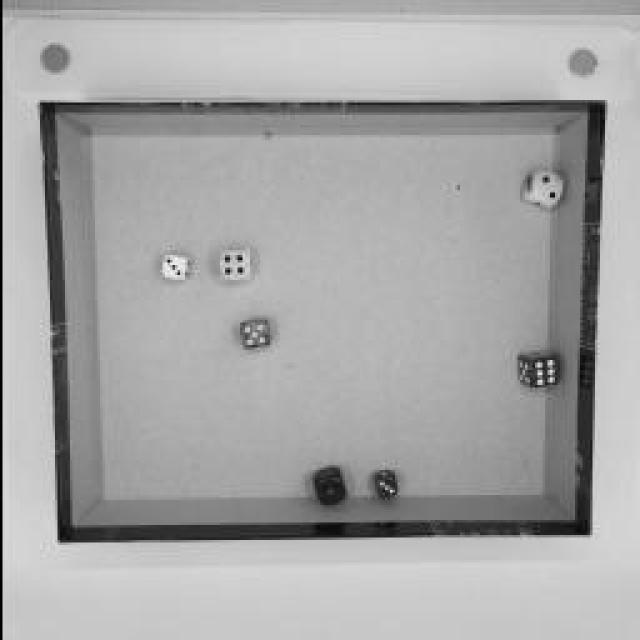dice_1: (305, 463, 355, 505)
dice_2: (520, 164, 562, 211)
dice_3: (155, 250, 190, 285), (372, 471, 398, 499)
dice_4: (215, 249, 250, 281)
dice_5: (239, 320, 271, 350)
dice_6: (516, 352, 559, 388)
